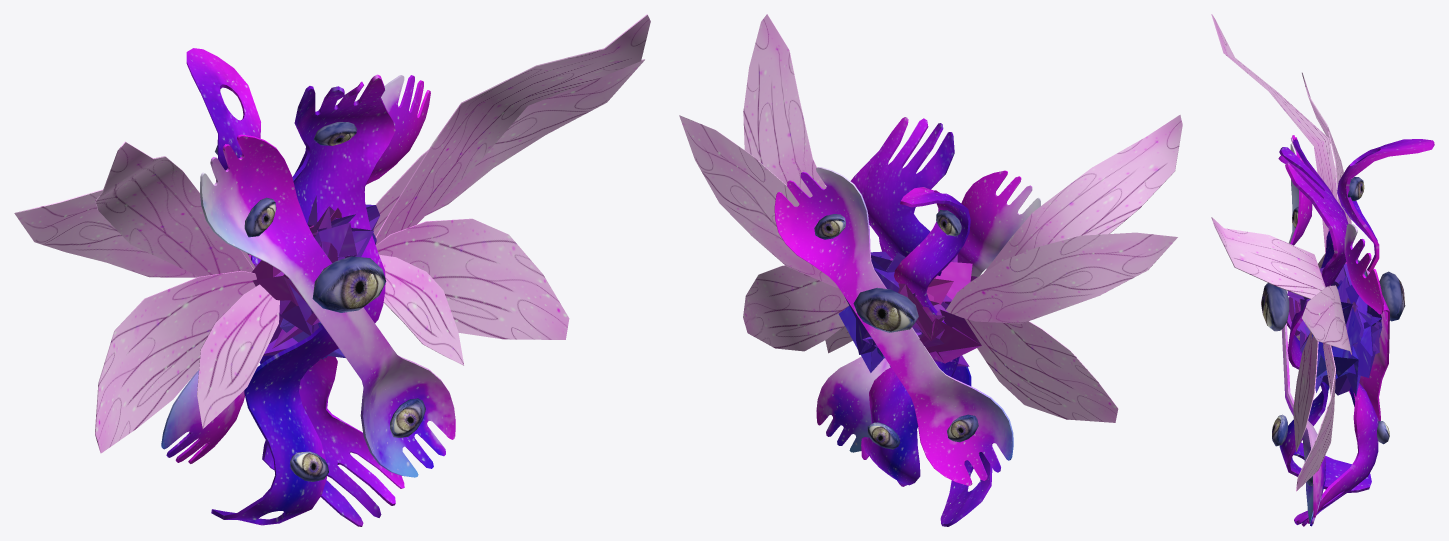
File: sporkAngel.glb
3 views of the same model, side by side, from view 1: azimuth 30°, elevation 25°; view 2: azimuth 150°, elevation 25°; view 3: azimuth 270°, elevation 25° (orthographic). The views are drawn at different scales.
Parts seen in each view (by area): view 1: sporkAngel; view 2: sporkAngel; view 3: sporkAngel.
Part boxes in pixels (bbox=[...]): sporkAngel: bbox=[14, 14, 650, 526]; sporkAngel: bbox=[679, 14, 1182, 526]; sporkAngel: bbox=[1211, 14, 1434, 526].
Size of the model in its own units: 0.1713 by 0.1296 by 0.0659.
Materials: 2 (2 with a texture image).
